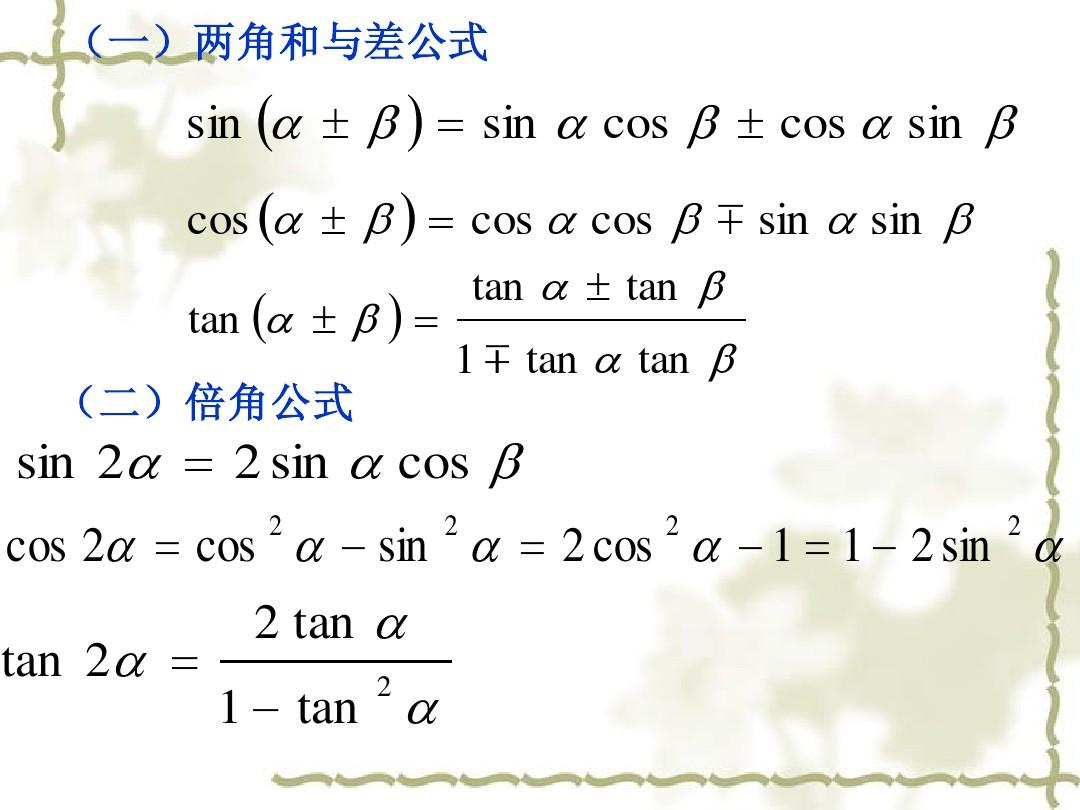division: (217, 652, 452, 673), (456, 314, 749, 328)
square: (442, 511, 464, 541), (660, 510, 680, 540), (1004, 512, 1027, 538), (266, 506, 282, 541), (373, 666, 389, 701)
